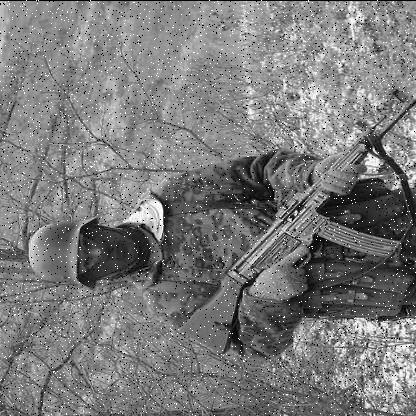rifle: (167, 82, 415, 356)
